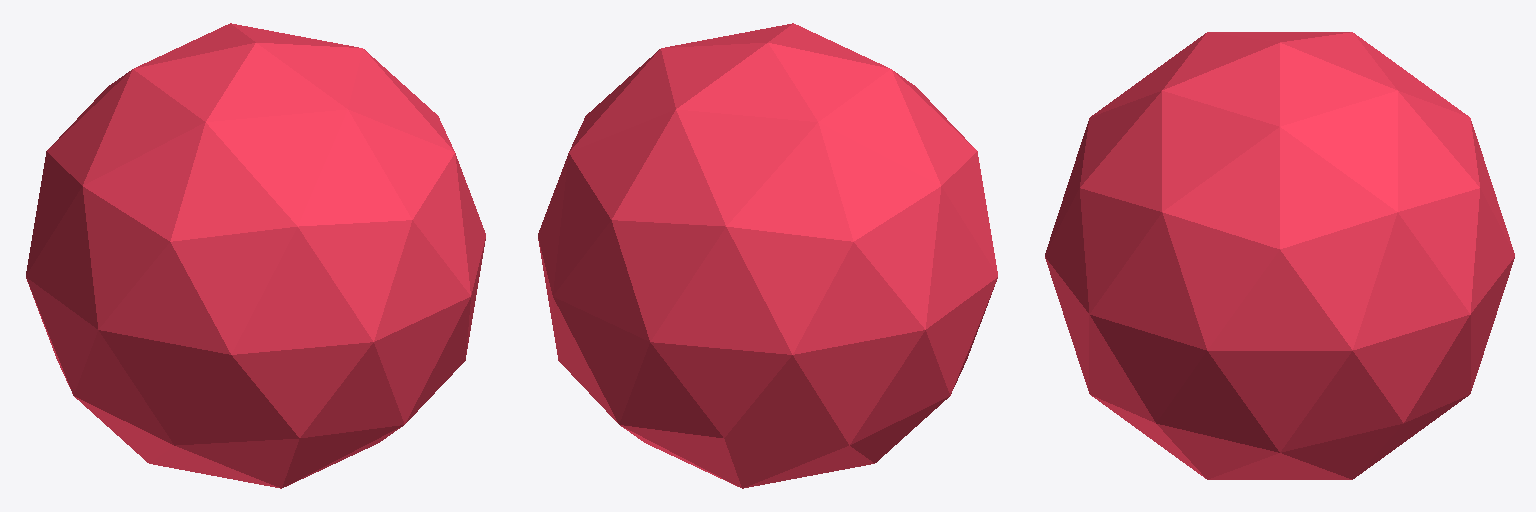
3 renders of one model, left to right at view 1: azimuth 30°, elevation 25°; view 2: azimuth 150°, elevation 25°; view 3: azimuth 270°, elevation 25°, orthographic.
Parts seen in each view (by area): view 1: ICO球; view 2: ICO球; view 3: ICO球.
Part boxes in pixels (x1,y1,x2,y2): ICO球: (26, 23, 485, 488); ICO球: (538, 23, 997, 488); ICO球: (1045, 32, 1514, 479).
Bounding box in the file's own units: 1.9 × 2 × 2.
1 materials, 1 textured.